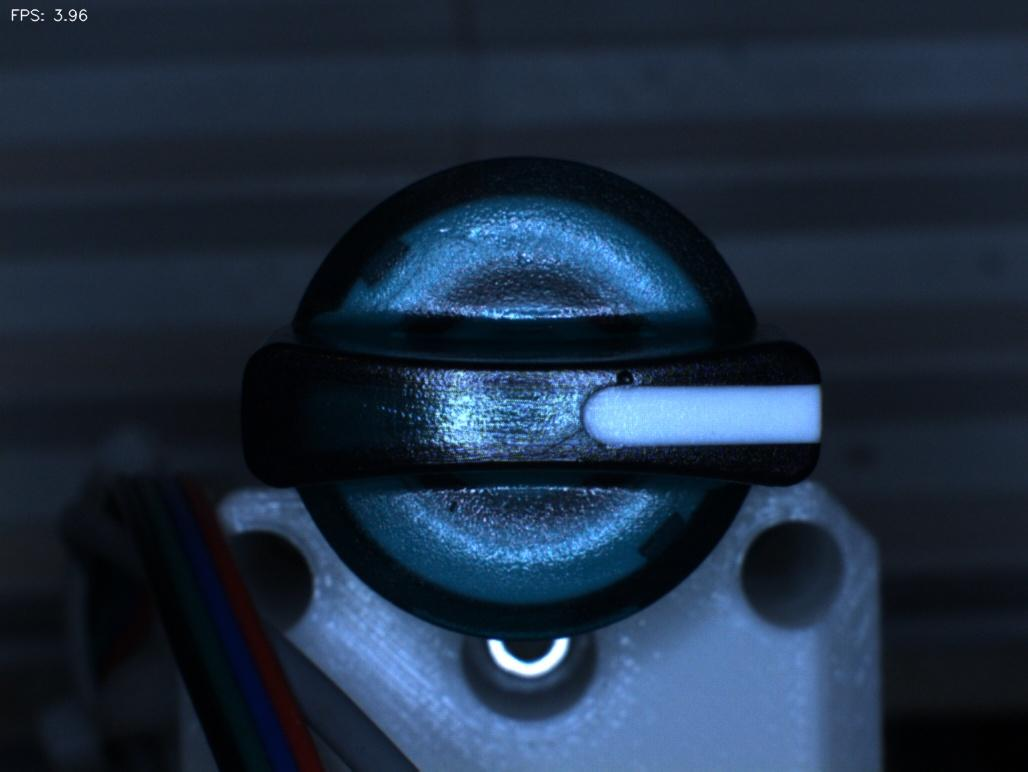Choc: (582, 333, 665, 423)
